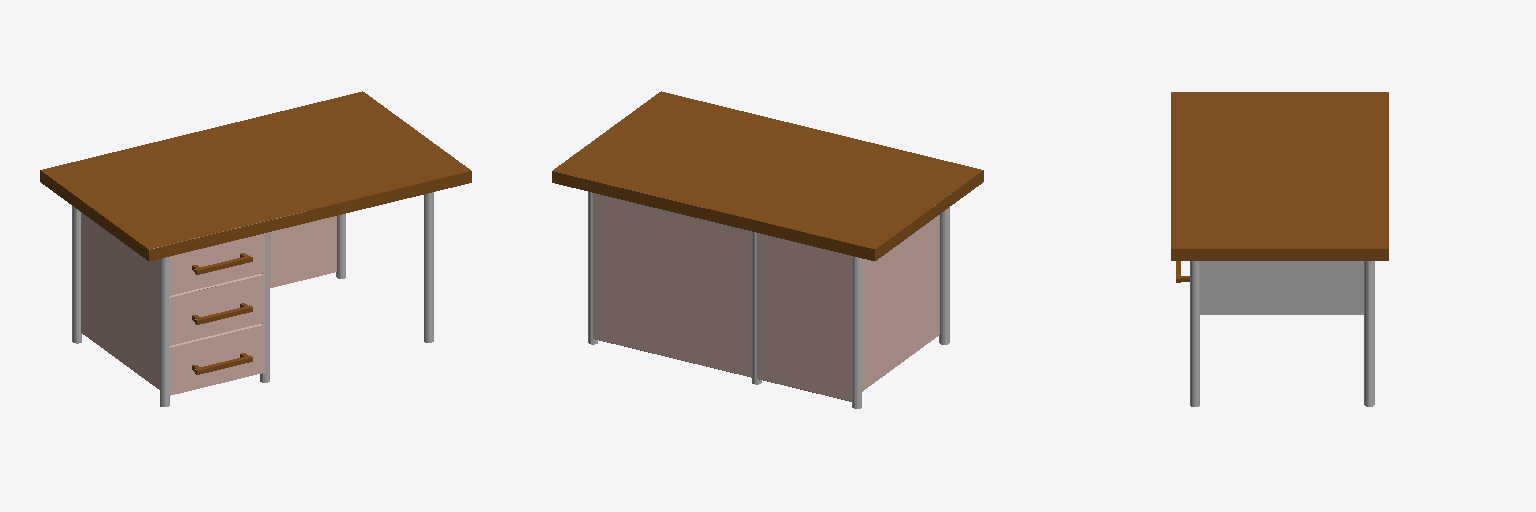
3 renders of one model, left to right at view 1: azimuth 30°, elevation 25°; view 2: azimuth 150°, elevation 25°; view 3: azimuth 270°, elevation 25°, orthographic.
Parts seen in each view (by area): view 1: Box027; view 2: Box027; view 3: Box027.
Part boxes in pixels (left/top/right/bottom): Box027: left=40, top=91, right=471, bottom=406; Box027: left=552, top=91, right=983, bottom=408; Box027: left=1171, top=92, right=1388, bottom=406.
Size of the model in its own units: 5 by 2.53 by 2.91.
3 materials, 1 textured.